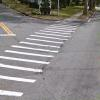Crosswalk: (2, 18, 68, 100)
